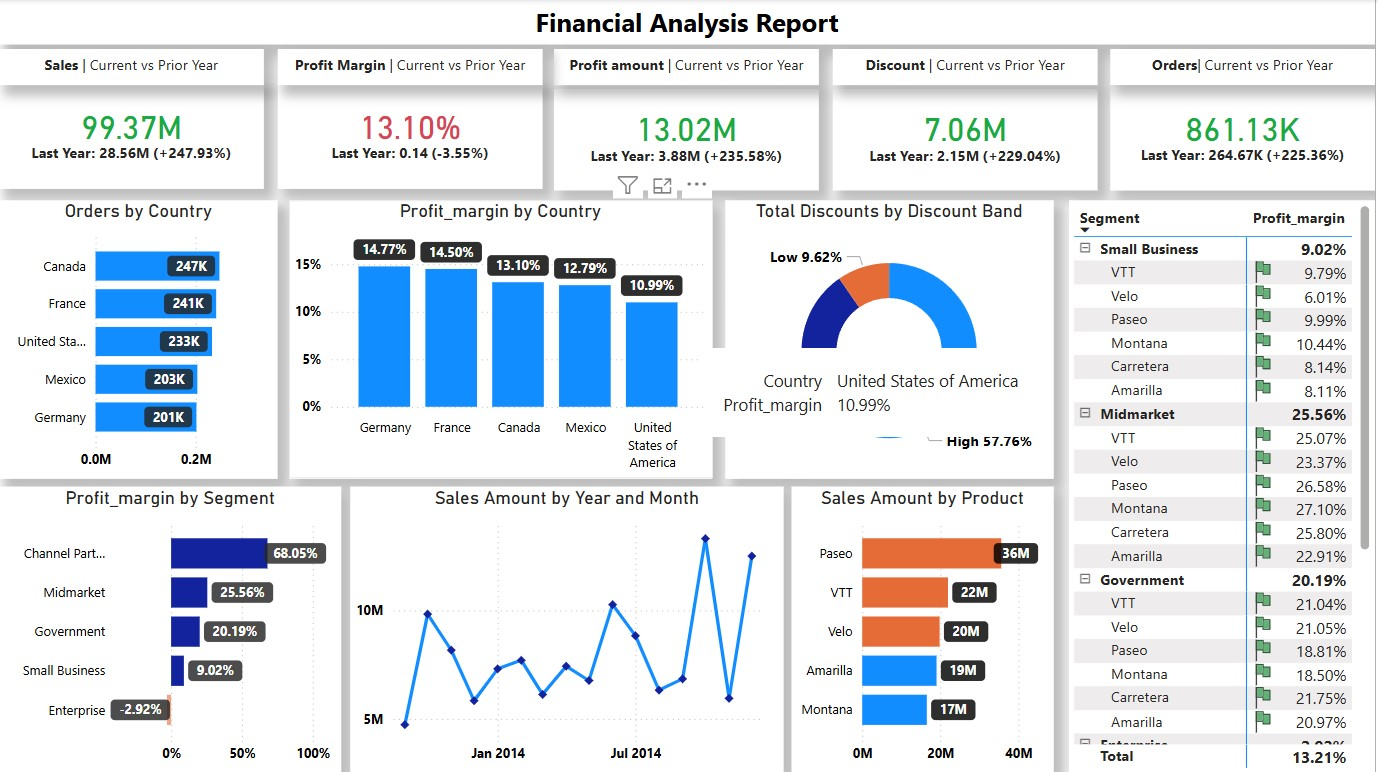

This screenshot's page, from the dashboard's own definition file:
{"tool":"powerbi","page":{"name":"Page 1","canvas":[1280,720],"ordinal":0},"visuals":[{"type":"kpi","fields":{"Indicator":["financials.sales amount"],"Goal":["financials.sales_amount LY"],"TrendLine":["Date_table.Date.Variation.Date Hierarchy.Year"]},"box":[0,79.6,246.1,97.7],"z":0},{"type":"textbox","box":[0,0,1280,42.2],"z":1000},{"type":"textbox","box":[0,47.1,246.1,33.8],"z":2000},{"type":"kpi","fields":{"TrendLine":["Date_table.Date.Variation.Date Hierarchy.Year"],"Indicator":["financials.Profit_margin"],"Goal":["financials.profit_margin LY"]},"box":[259.4,79.6,246.1,97.7],"z":3000},{"type":"kpi","fields":{"TrendLine":["Date_table.Date.Variation.Date Hierarchy.Year"],"Indicator":["financials.Total_profit"],"Goal":["financials.Profit_amount LY"]},"box":[516.4,83.2,246.1,94.1],"z":4000},{"type":"kpi","fields":{"TrendLine":["Date_table.Date.Variation.Date Hierarchy.Year"],"Indicator":["financials.Discount_offered"],"Goal":["financials.discount_offered LY"]},"box":[775.7,83.2,246.1,94.1],"z":5000},{"type":"kpi","fields":{"TrendLine":["Date_table.Date.Variation.Date Hierarchy.Year"],"Indicator":["financials.orders"],"Goal":["financials.order_amount LY"]},"box":[1033.9,80.8,246.1,96.5],"z":6000},{"type":"textbox","box":[516.4,47.1,246.1,33.8],"z":7000},{"type":"textbox","box":[775.7,47.1,246.1,33.8],"z":8000},{"type":"textbox","box":[1033.9,47.1,246.1,33.8],"z":9000},{"type":"textbox","box":[259.4,47.1,246.1,33.8],"z":10000},{"type":"barChart","title":"Orders by Country","fields":{"Category":["financials.Country"],"Y":["financials.orders"]},"box":[0,187,259.4,259.4],"z":11000},{"type":"clusteredColumnChart","fields":{"Category":["financials.Country"],"Y":["financials.Profit_margin"]},"box":[270.2,187,393.3,259.4],"z":12000},{"type":"donutChart","title":"Total Discounts by Discount Band","fields":{"Category":["financials.Discount Band"],"Y":["Sum(financials.Discounts)"]},"box":[675.6,187,305.2,259.4],"z":13000},{"type":"barChart","fields":{"Category":["financials.Segment"],"Y":["financials.Profit_margin"]},"box":[0,453.6,318.5,266.6],"z":14000},{"type":"lineChart","title":"Sales Amount by Year and Month","fields":{"Y":["financials.sales amount"],"Category":["Date_table.Date.Variation.Date Hierarchy.Year","Date_table.Date.Variation.Date Hierarchy.Month"]},"box":[326.9,453.6,403,266.6],"z":15000},{"type":"barChart","title":"Sales Amount by Product","fields":{"Category":["financials.Product"],"Y":["financials.sales amount"]},"box":[737.1,453.6,243.7,266.6],"z":16000},{"type":"pivotTable","fields":{"Values":["financials.Profit_margin"],"Rows":["financials.Segment","financials.Product"]},"box":[995.3,187,284.7,533.2],"z":17000}]}

Visuals, with their boxes in screenshot pixels (x1, y1, x2, y2), scaled from the page's 1280x720 canvas onto the 1378x772 screenshot:
kpi - financials.sales amount x financials.sales_amount LY: select_region(0, 85, 265, 190)
textbox: select_region(0, 0, 1377, 45)
textbox: select_region(0, 51, 265, 87)
kpi - Date_table.Date.Variation.Date Hierarchy.Year x financials.Profit_margin: select_region(279, 85, 544, 190)
kpi - Date_table.Date.Variation.Date Hierarchy.Year x financials.Total_profit: select_region(556, 89, 821, 190)
kpi - Date_table.Date.Variation.Date Hierarchy.Year x financials.Discount_offered: select_region(835, 89, 1100, 190)
kpi - Date_table.Date.Variation.Date Hierarchy.Year x financials.orders: select_region(1113, 87, 1377, 190)
textbox: select_region(556, 51, 821, 87)
textbox: select_region(835, 51, 1100, 87)
textbox: select_region(1113, 51, 1377, 87)
textbox: select_region(279, 51, 544, 87)
"Orders by Country" barChart: select_region(0, 201, 279, 479)
clusteredColumnChart - financials.Country x financials.Profit_margin: select_region(291, 201, 714, 479)
"Total Discounts by Discount Band" donutChart: select_region(727, 201, 1056, 479)
barChart - financials.Segment x financials.Profit_margin: select_region(0, 486, 343, 771)
"Sales Amount by Year and Month" lineChart: select_region(352, 486, 786, 771)
"Sales Amount by Product" barChart: select_region(794, 486, 1056, 771)
pivotTable - financials.Profit_margin x financials.Segment: select_region(1072, 201, 1377, 771)
